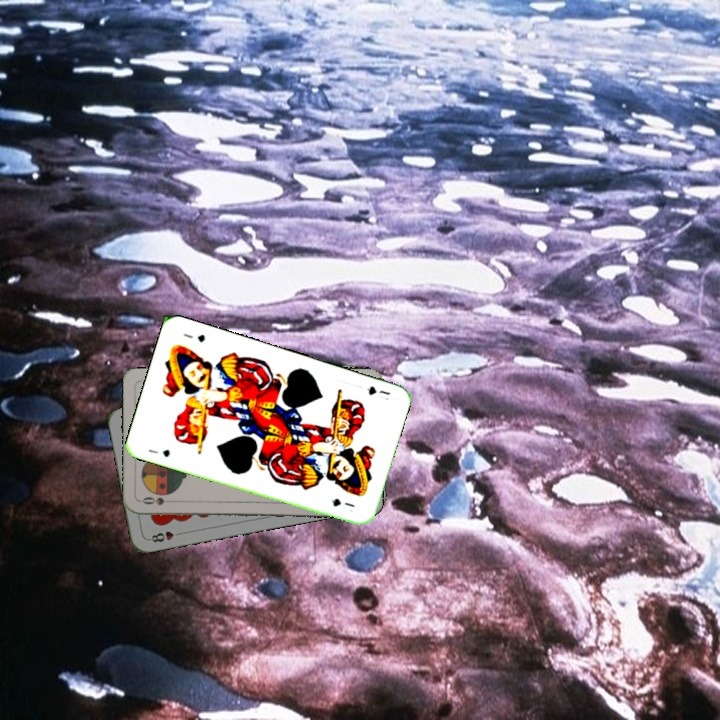GU: (363, 382, 393, 403), (144, 445, 173, 460)
H8: (145, 527, 185, 545)
SO: (137, 493, 178, 507)
